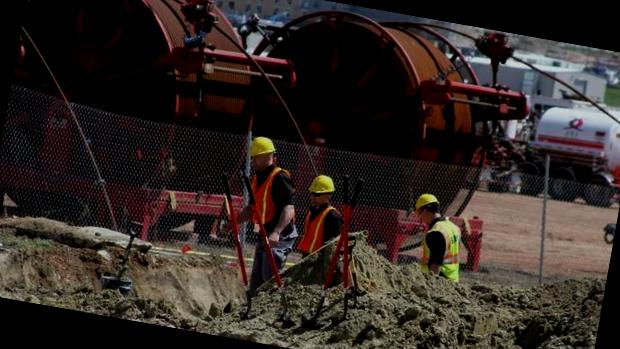helmet: (243, 130, 282, 166), (302, 168, 340, 204), (410, 187, 444, 223)
person: (226, 134, 310, 294), (404, 182, 476, 279), (295, 171, 350, 264)
